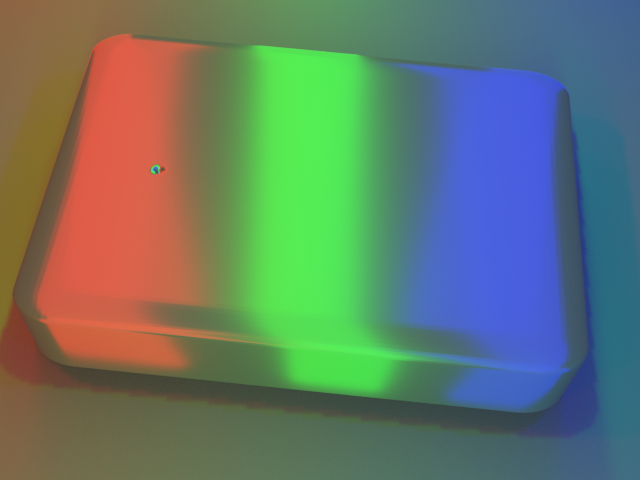dent: (122, 148, 160, 191)
